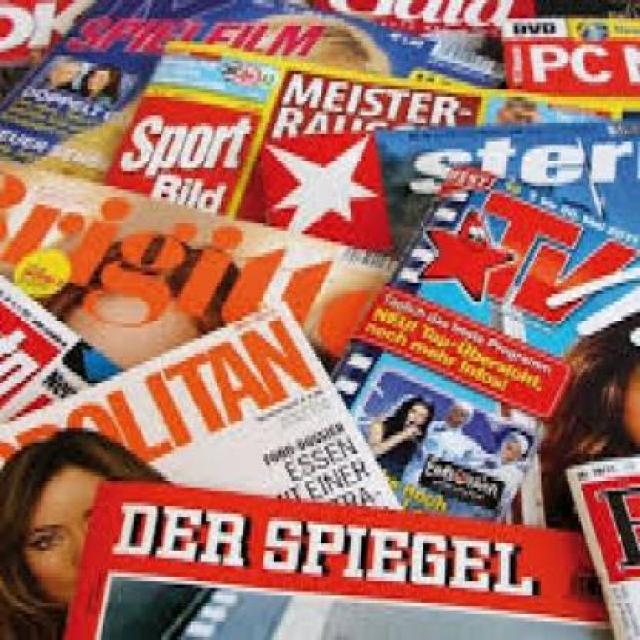PAPER: (0, 0, 638, 637), (0, 294, 400, 637), (328, 156, 638, 532), (0, 156, 397, 439), (0, 0, 500, 223), (59, 476, 612, 636), (101, 33, 482, 261), (256, 116, 638, 264), (0, 272, 123, 413), (564, 450, 638, 636), (499, 15, 638, 93)
